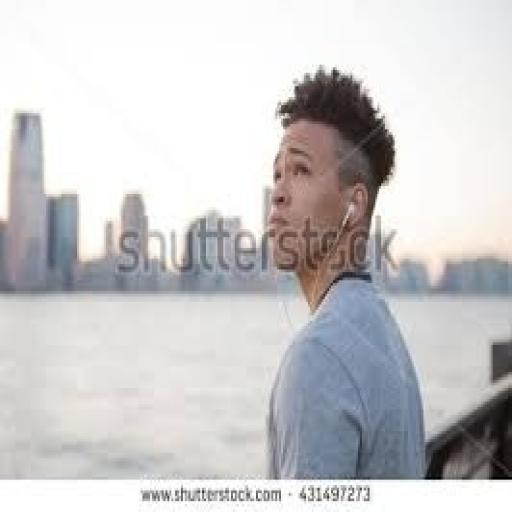listening_to_music: (260, 62, 427, 480)
